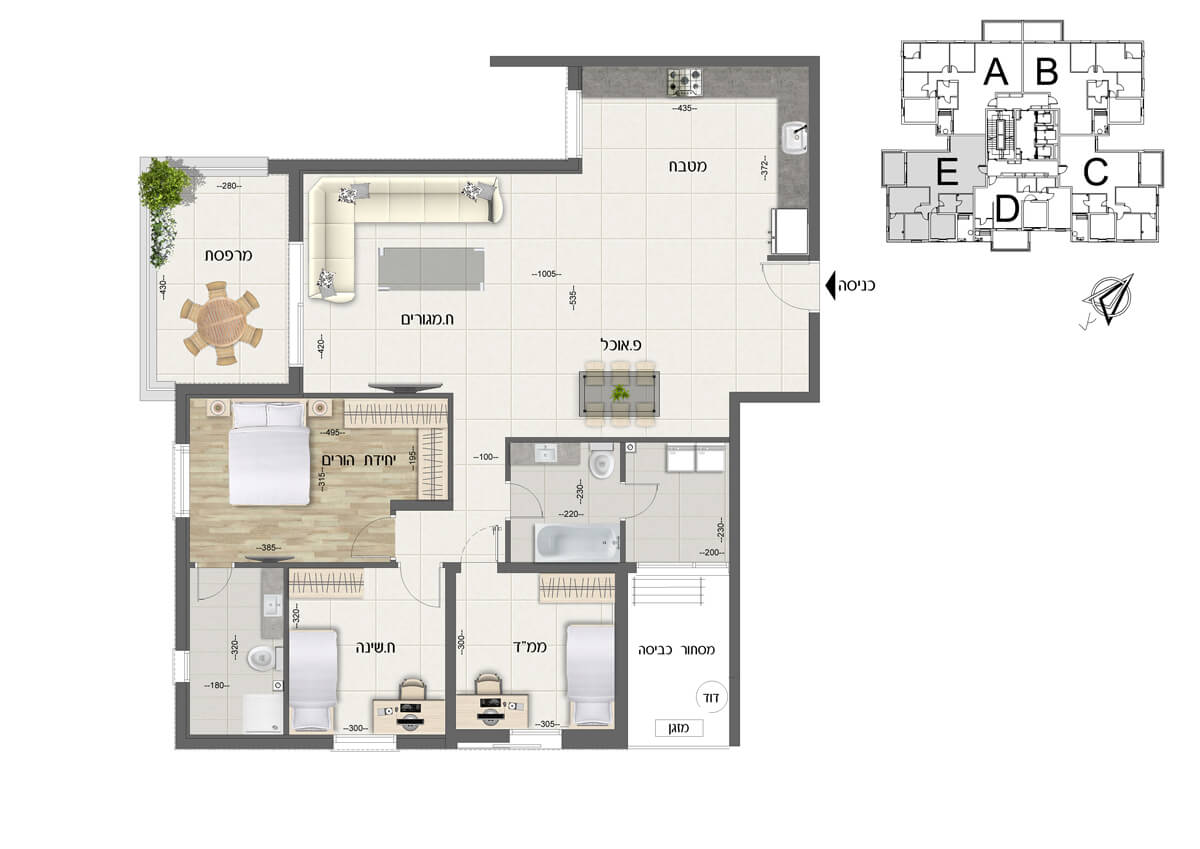door: (758, 259, 808, 313), (396, 569, 443, 610), (456, 520, 503, 561), (512, 479, 559, 520), (624, 479, 671, 520)
wall: (729, 391, 741, 745), (269, 159, 582, 172), (490, 56, 820, 66), (615, 570, 627, 748), (810, 65, 820, 260), (446, 568, 456, 748), (176, 516, 189, 652)
window: (332, 735, 396, 751)
